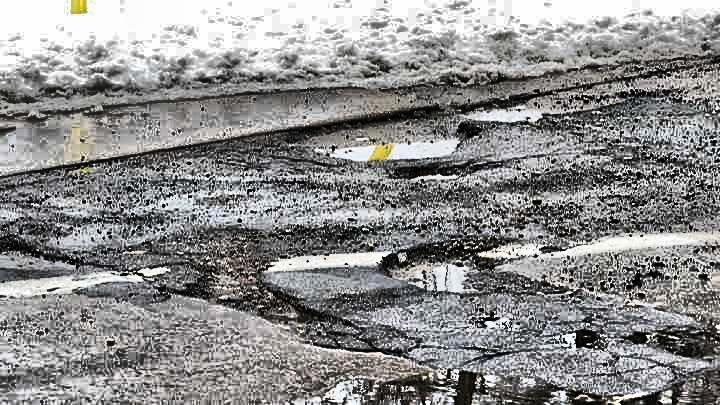pothole: (282, 119, 501, 168), (374, 236, 516, 299), (175, 266, 316, 326)
